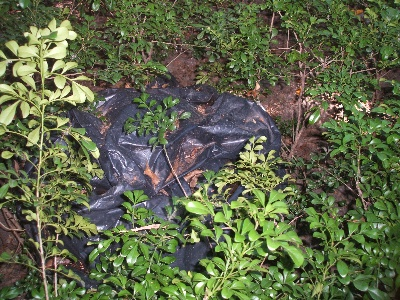plastic_bag: (80, 88, 276, 263)
